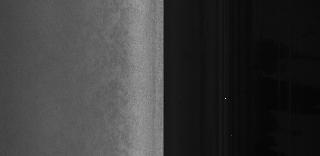silk spot: (99, 27, 137, 105)
